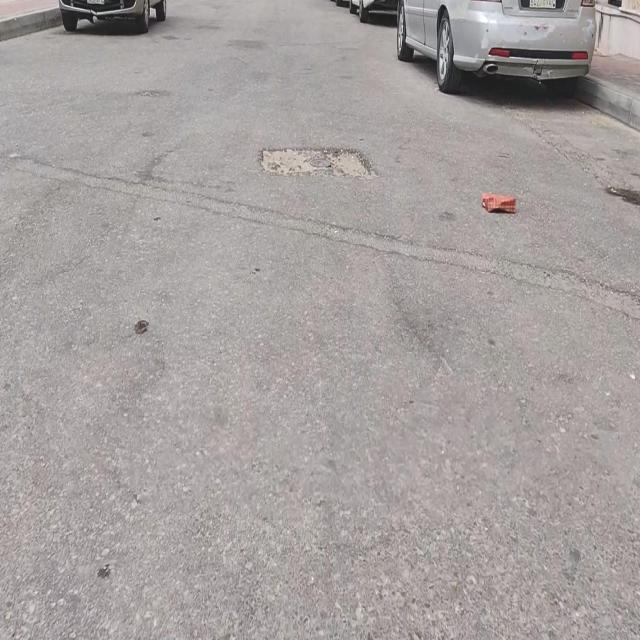Potholes: (257, 147, 365, 178)
